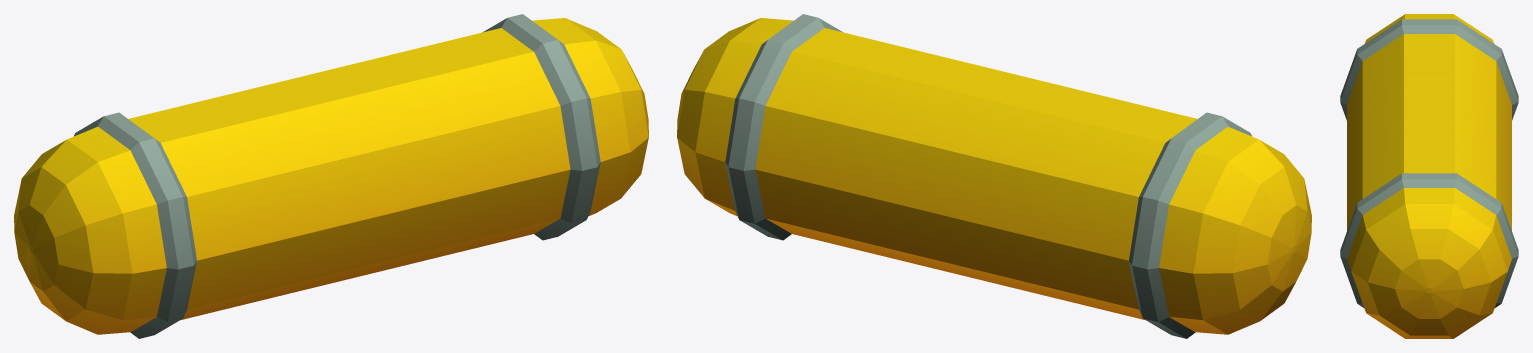
The model's file is item_020.fbx.
The picture shows the model from 3 angles, left to right: view 1: azimuth 30°, elevation 25°; view 2: azimuth 150°, elevation 25°; view 3: azimuth 270°, elevation 25°; orthographic projection. The views are drawn at different scales.
Parts seen in each view (by area): view 1: item.020; view 2: item.020; view 3: item.020.
Boxes of the visible parts, x1,y1,x2,y2 form: item.020: [14, 14, 648, 338]; item.020: [677, 14, 1311, 338]; item.020: [1340, 14, 1518, 338].
Bounding box in the file's own units: 255 × 80.1 × 84.22.
